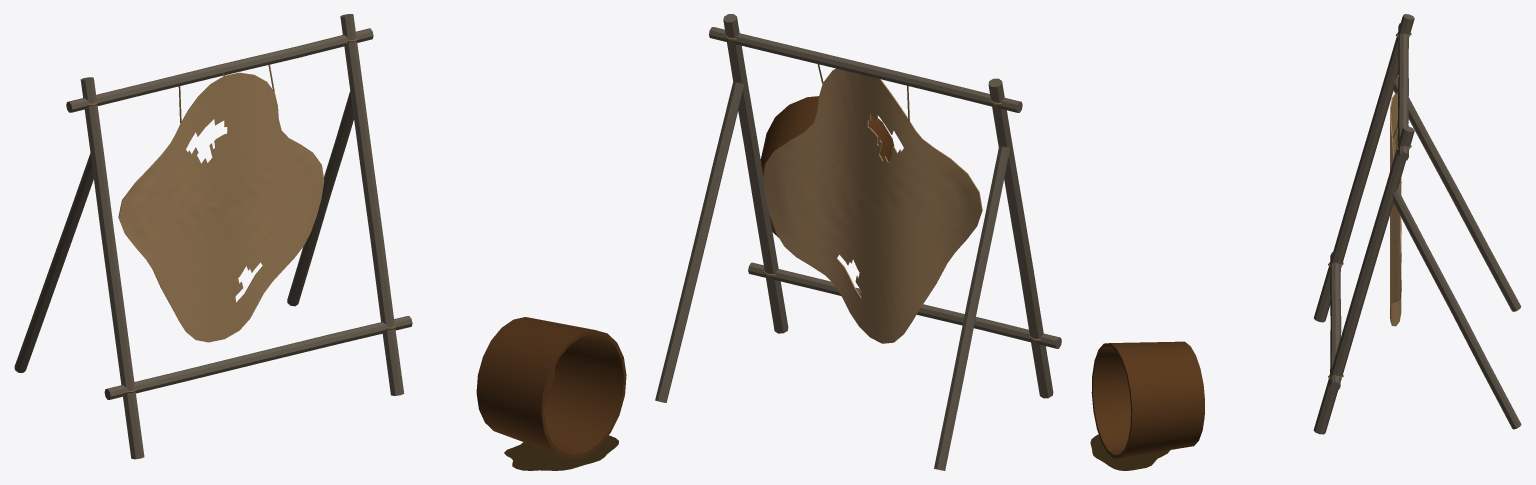
File: gerberrahmen_kaputt.glb
3 renders of one model, left to right at view 1: azimuth 30°, elevation 25°; view 2: azimuth 150°, elevation 25°; view 3: azimuth 270°, elevation 25°, orthographic. The views are drawn at different scales.
Visible parts, largest first — view 1: gerberrahmen_kaputt; view 2: gerberrahmen_kaputt; view 3: gerberrahmen_kaputt.
Part boxes in pixels (x1,y1,x2,y2): gerberrahmen_kaputt: (14, 14, 626, 470); gerberrahmen_kaputt: (655, 14, 1061, 470); gerberrahmen_kaputt: (1090, 14, 1521, 470).
Size of the model in its own units: 2.33 by 1.9 by 2.44.
